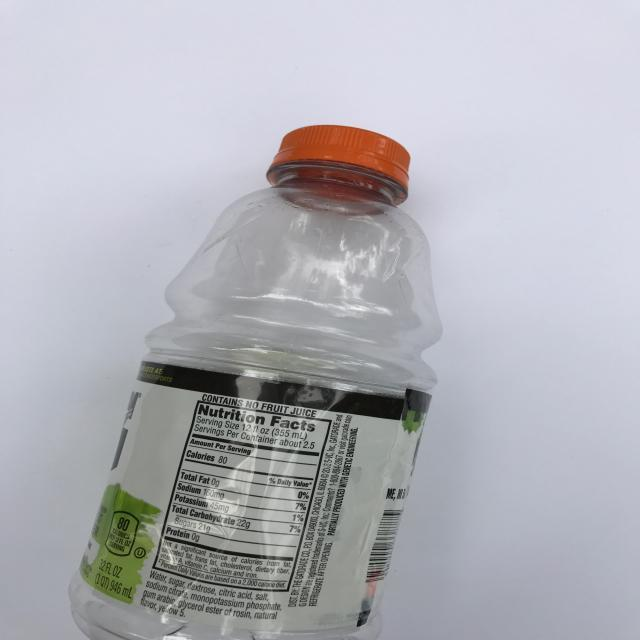plastic: (83, 115, 444, 640)
